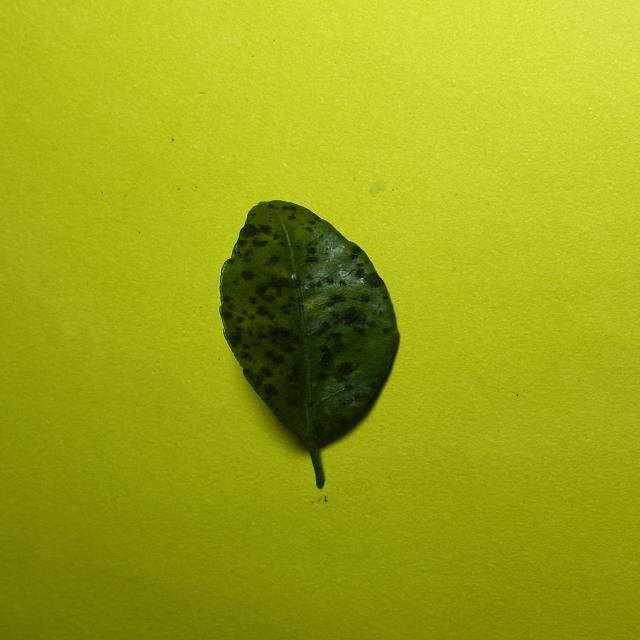sooty_mold: (220, 200, 398, 488)
